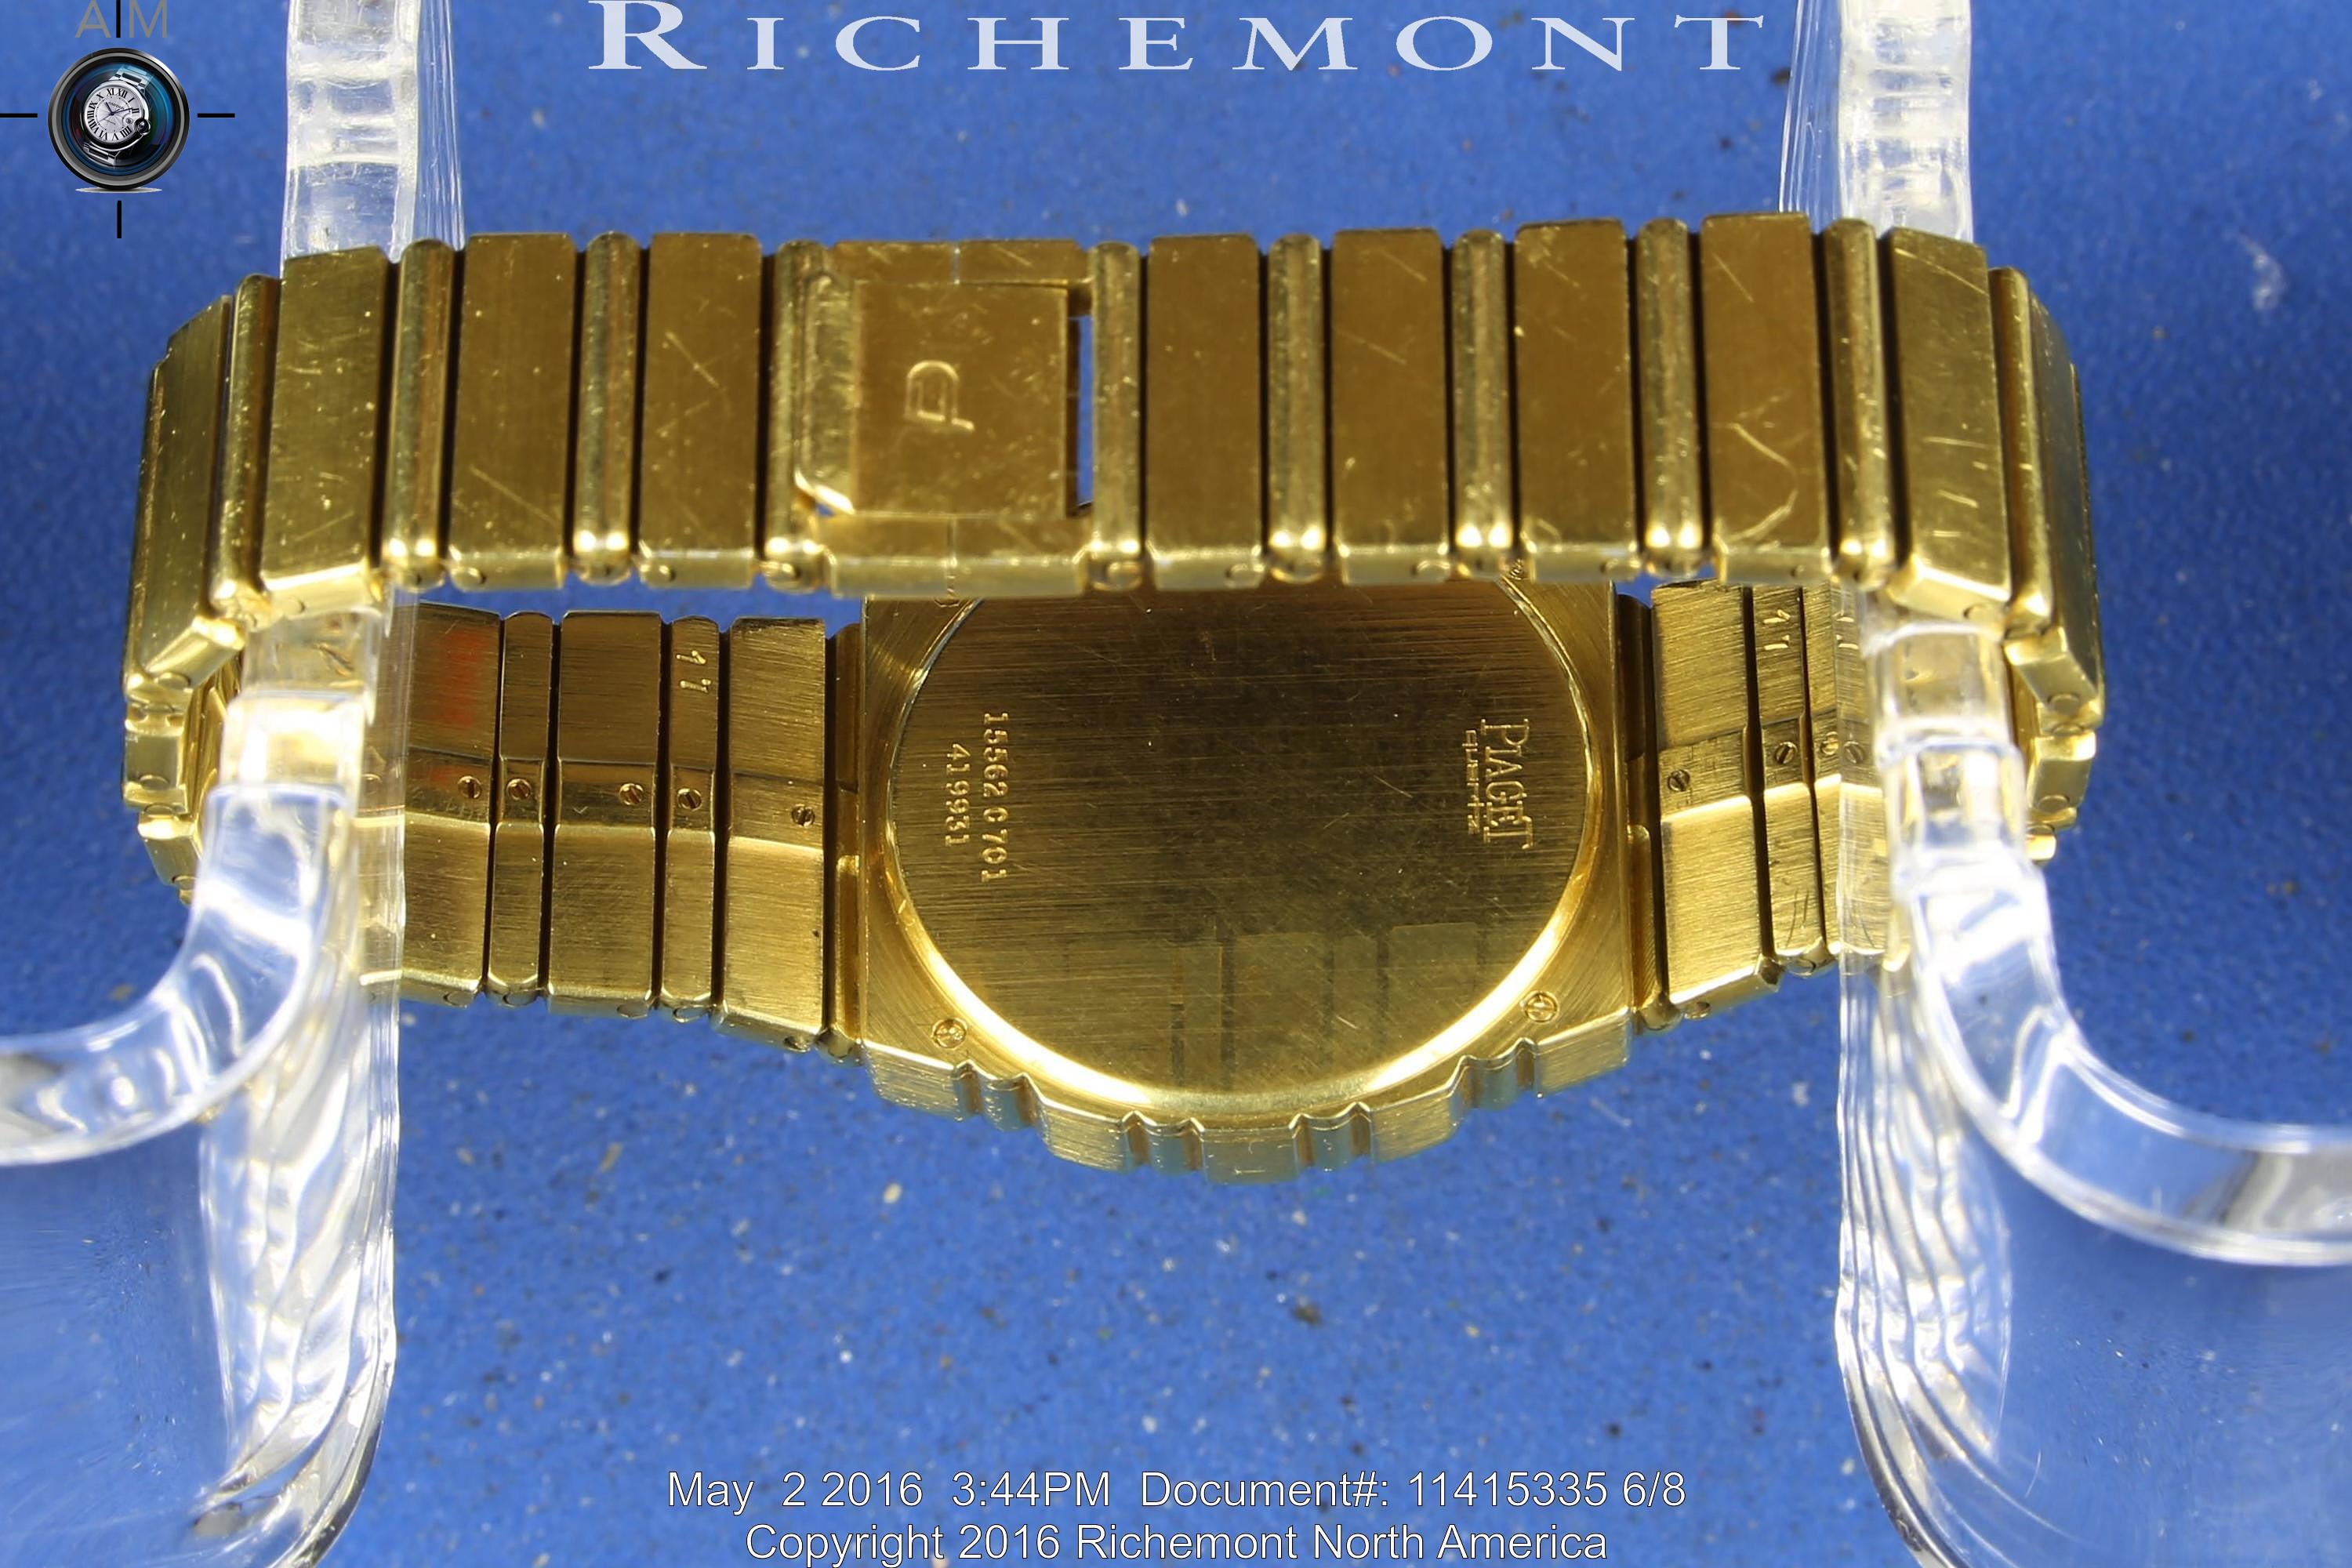Watch BackCase: (868, 600, 1643, 1192)
